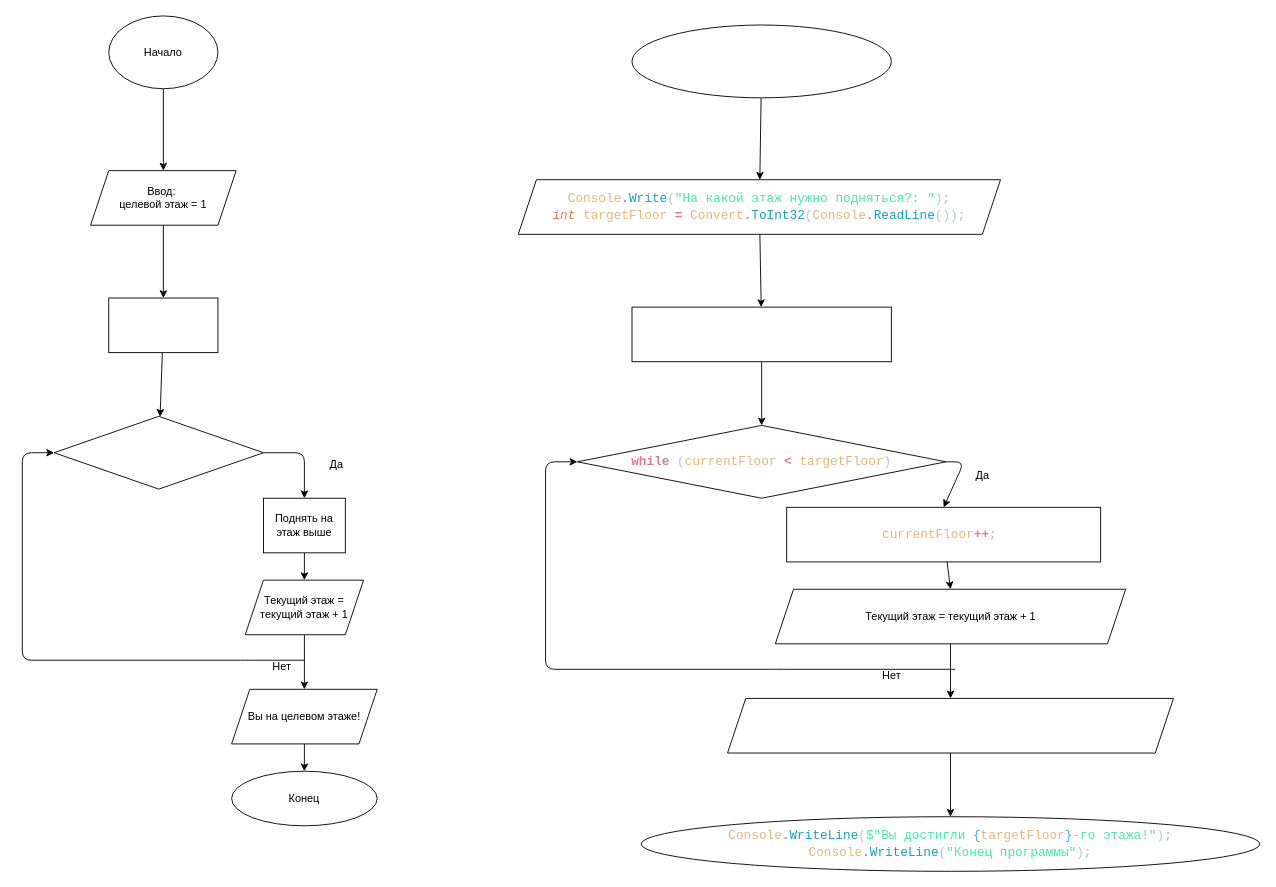
The diagram is 1276 pixels wide and 887 high, and some of its shapes have lost their labels. The centre of each missing label's shape, as x and y in pixels:
Console . WriteLine ( "Подъём по лестнице" ) ;: point 761,61
Console . WriteLine ( $"Поднялись на { currentFloor } -й этаж" ) ;: point 950,725
int currentFloor = 1 ; Console . WriteLine ( "Начинаем подъём!" ) ;: point 761,334
Текущий этаж < N?: point 158,452
Текущий этаж = 1: point 163,325
